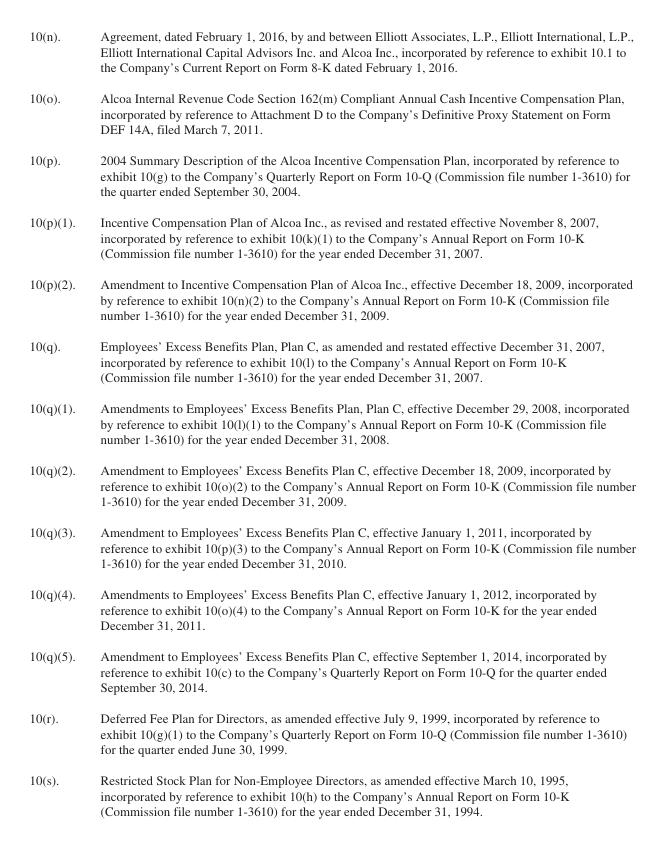table: (28, 28, 635, 818)
table column: (87, 28, 635, 818), (28, 28, 87, 818)
table row: (28, 82, 635, 144), (28, 144, 635, 206), (28, 206, 635, 268), (28, 268, 635, 330), (28, 330, 635, 392), (28, 392, 635, 454), (28, 454, 635, 516), (28, 516, 635, 578), (28, 578, 635, 640), (28, 640, 635, 702), (28, 702, 635, 764), (28, 28, 635, 82), (28, 764, 635, 818)
